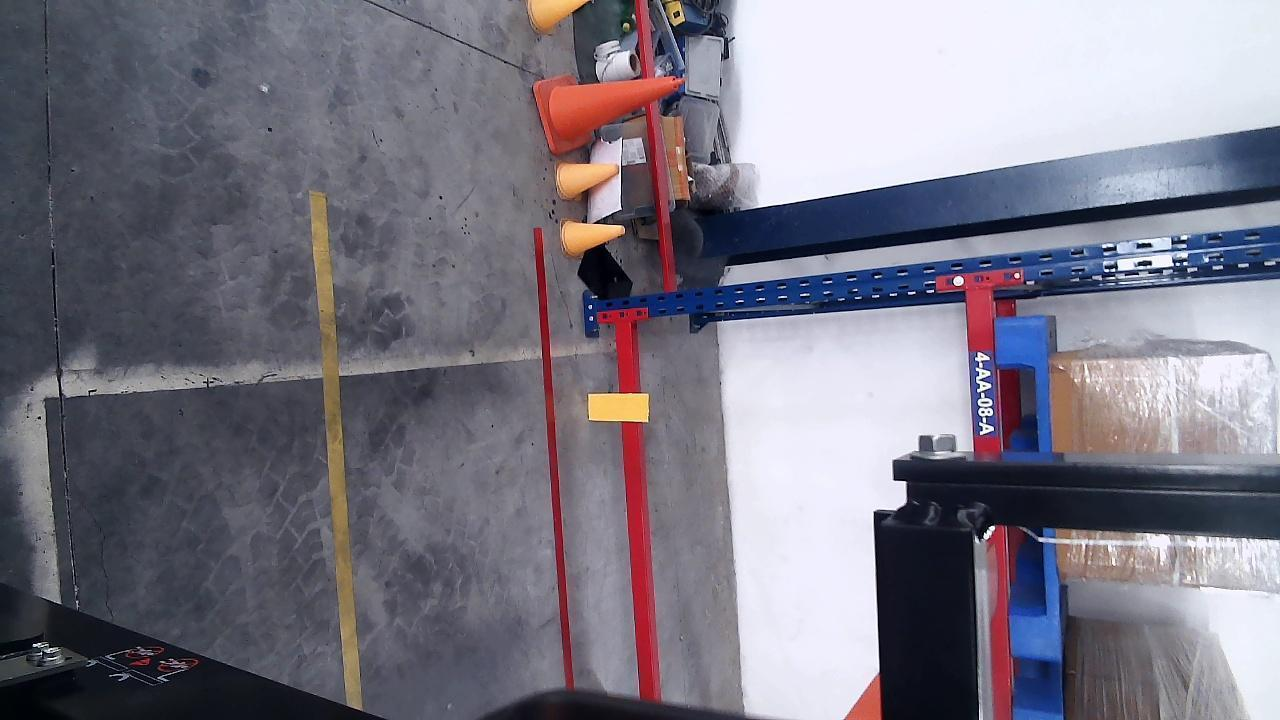red_line: (534, 229, 575, 686)
yellow_line: (310, 188, 364, 709)
